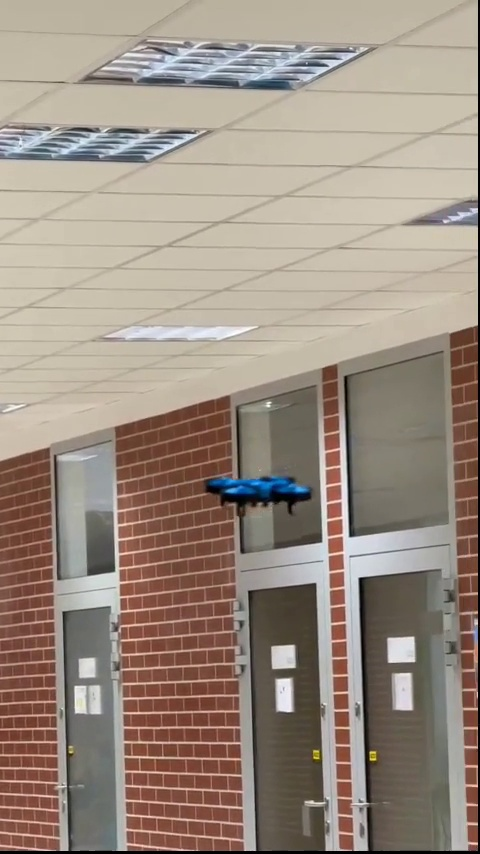drone: (204, 470, 311, 510)
